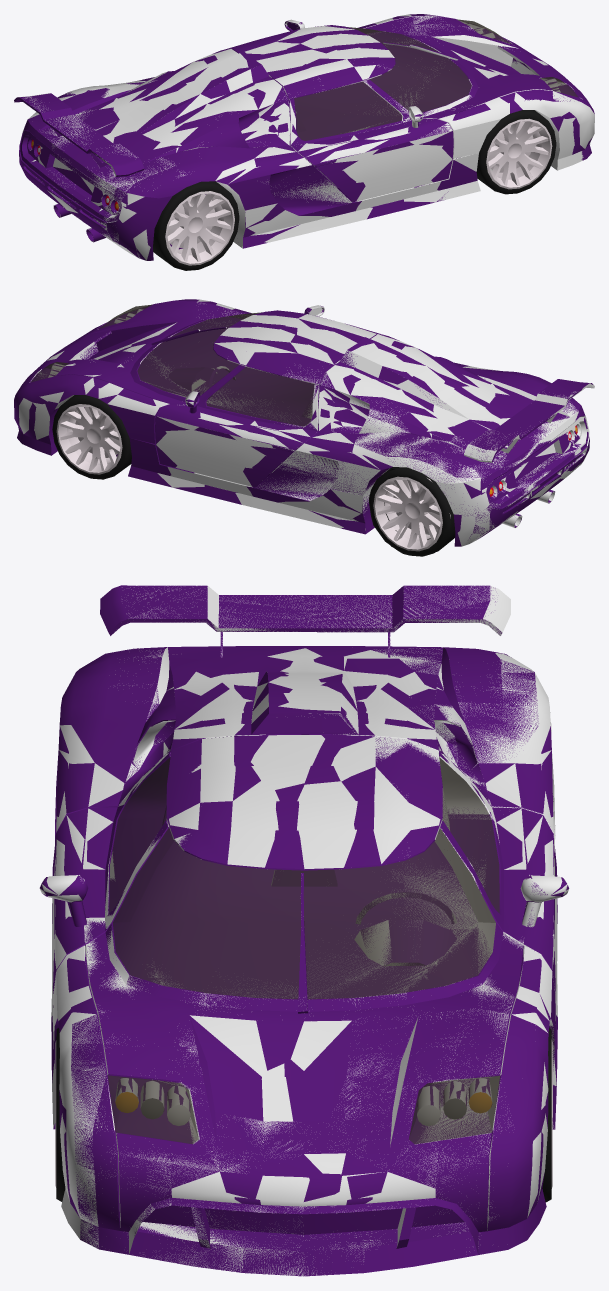
File: car2.fbx
3 renders of one model, top to bottom at view 1: azimuth 30°, elevation 25°; view 2: azimuth 150°, elevation 25°; view 3: azimuth 270°, elevation 25°, orthographic. The views are drawn at different scales.
Parts seen in each view (by area): view 1: Sport body, Sport body_Body_0.001, RR, FR; view 2: Sport body, Sport body_Body_0.001, RL, FL; view 3: Sport body, Sport body_Body_0.001, FL, FR.
Boxes of the visible parts, bbox=[...] form: Sport body: bbox=[14, 14, 594, 260]; Sport body_Body_0.001: bbox=[18, 14, 594, 260]; RR: bbox=[153, 181, 239, 270]; FR: bbox=[476, 110, 556, 194]; Sport body: bbox=[14, 299, 593, 546]; Sport body_Body_0.001: bbox=[19, 299, 594, 546]; RL: bbox=[369, 467, 455, 556]; FL: bbox=[52, 395, 131, 479]; Sport body: bbox=[40, 585, 568, 1276]; Sport body_Body_0.001: bbox=[40, 585, 568, 1276]; FL: bbox=[542, 1028, 552, 1202]; FR: bbox=[55, 1028, 65, 1201].
Size of the model in its own units: 3.91 by 1.77 by 1.04.
